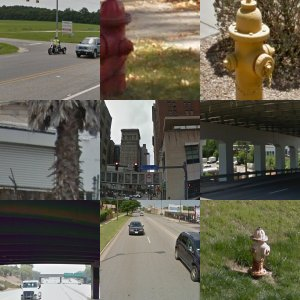公車: (13, 130, 75, 157)
汽車: (237, 70, 300, 102), (145, 139, 195, 163), (225, 235, 260, 267), (1, 137, 24, 162), (258, 233, 286, 253)
煙囪: (204, 147, 226, 170)
腳踏車: (144, 30, 194, 81), (41, 207, 77, 257), (147, 212, 175, 256)
